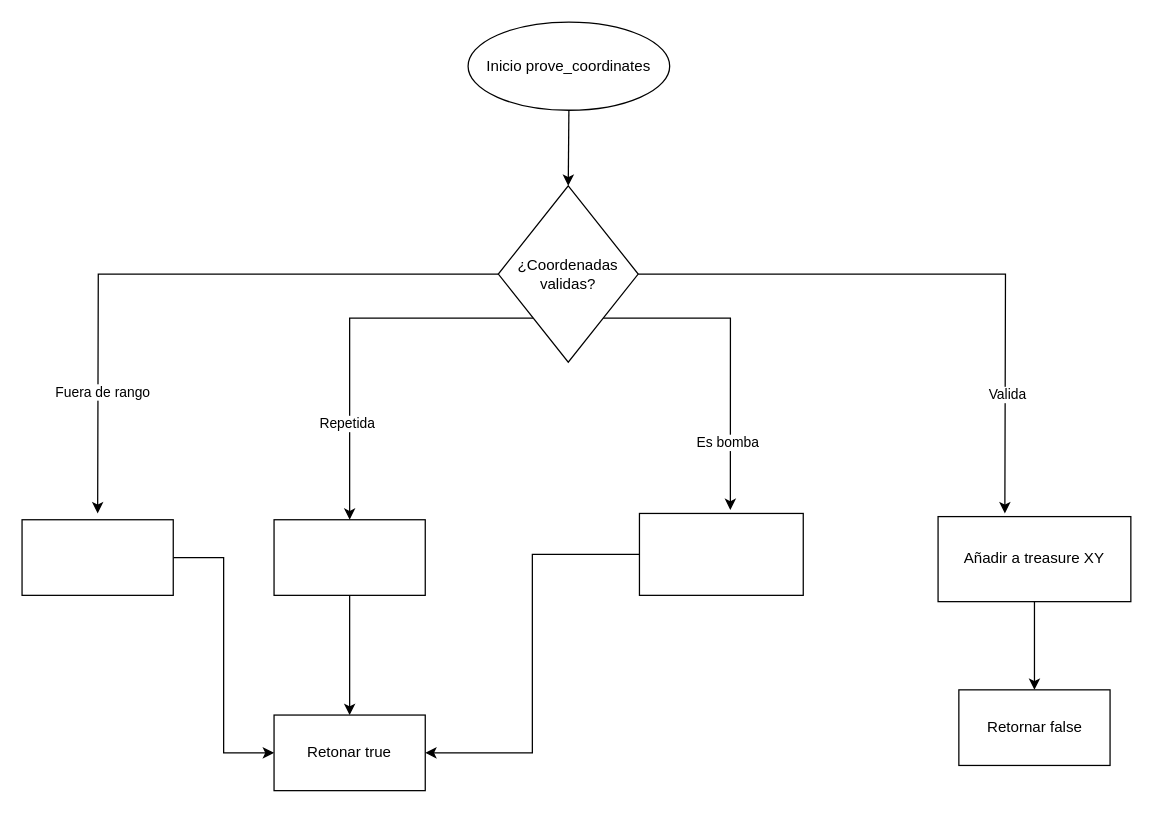
Some shapes in this 1153 by 813 pixel diagram are drawn without their labels. The centre of each missing label's shape, as x and y in pixels:
"Añadir a bomb_explote, set error bombExplote" belongs at [720,553].
"Set error outOfRange" belongs at [97,556].
"Set error repeatCoordinate" belongs at [349,556].
